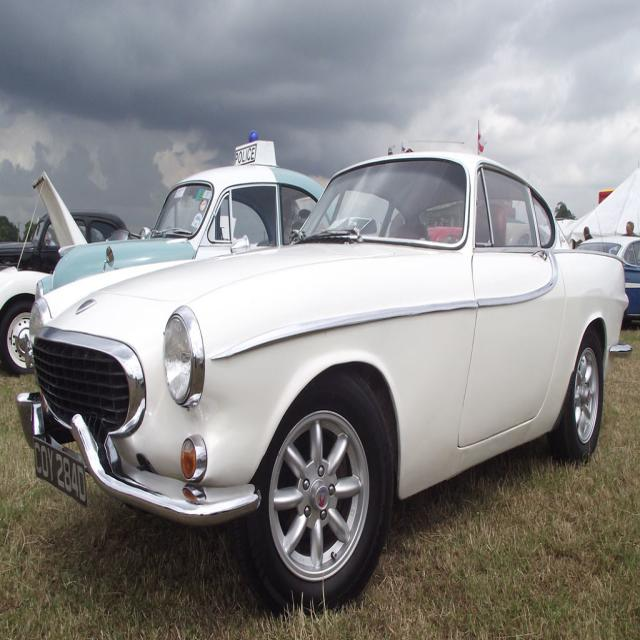car: (43, 138, 613, 596)
